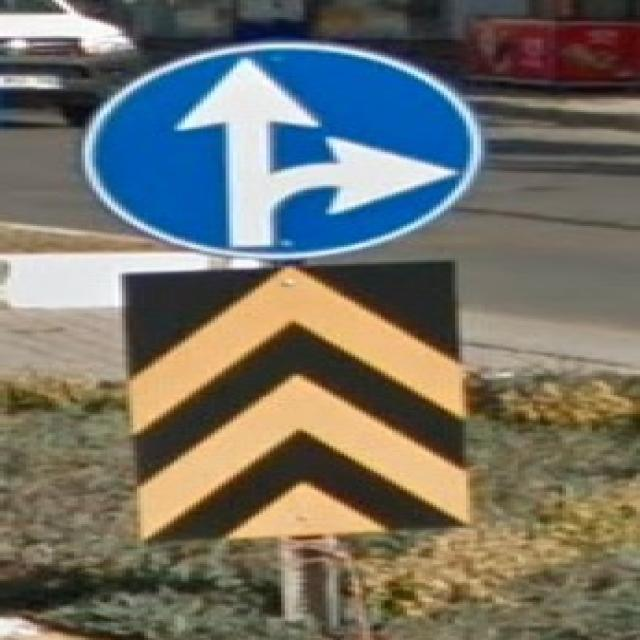Straight or Right: (86, 43, 478, 257)
